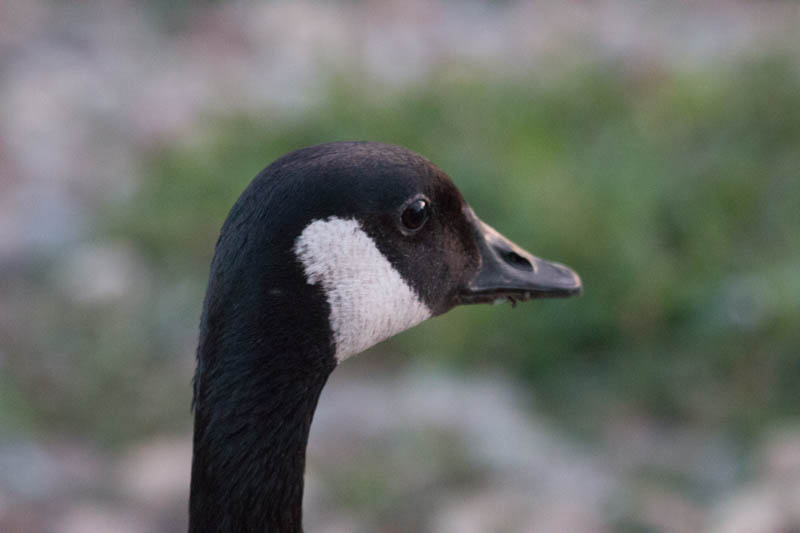goose-head: (199, 140, 583, 366)
